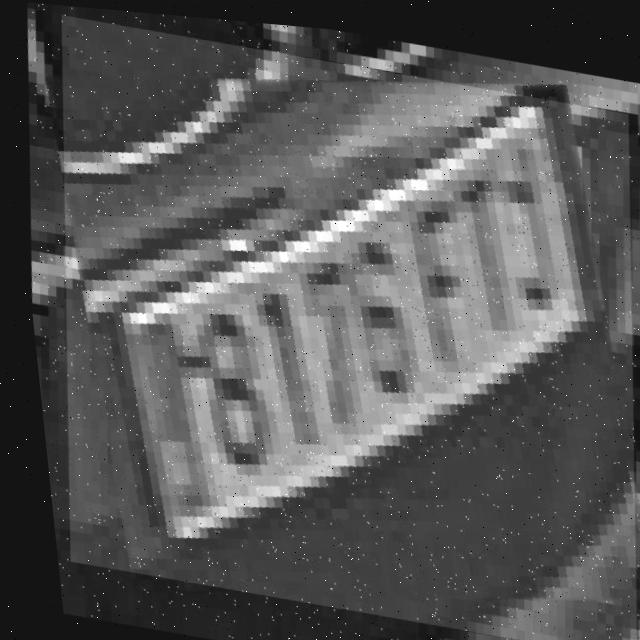LicensePlate: (13, 10, 640, 640)
